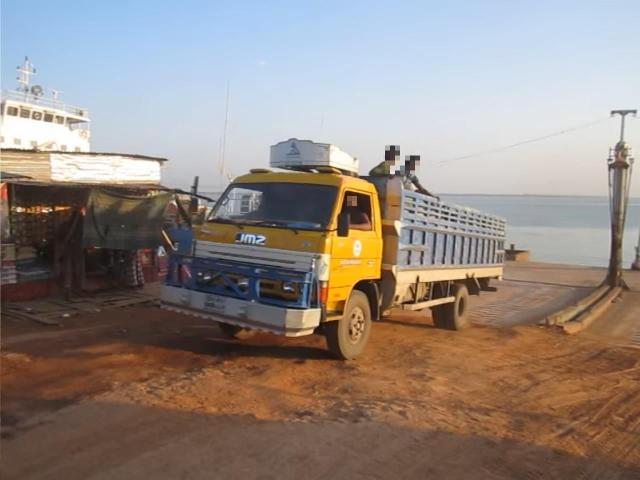truck: (156, 133, 515, 354)
